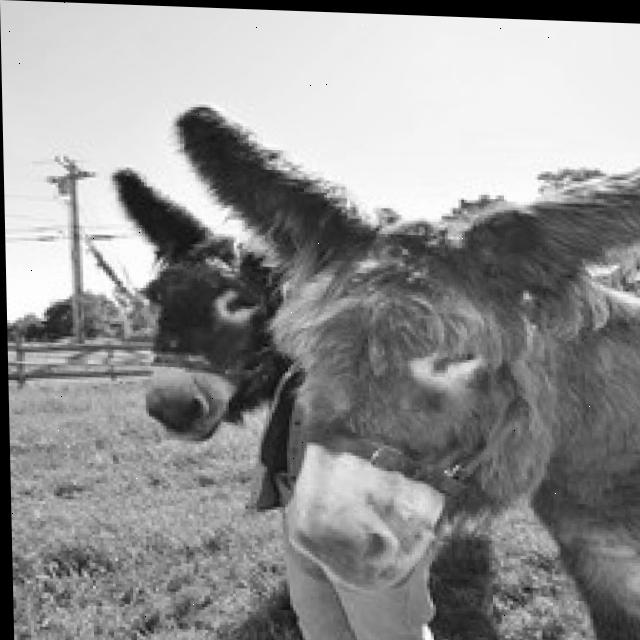Donkey: (175, 100, 640, 640), (50, 72, 369, 472)
